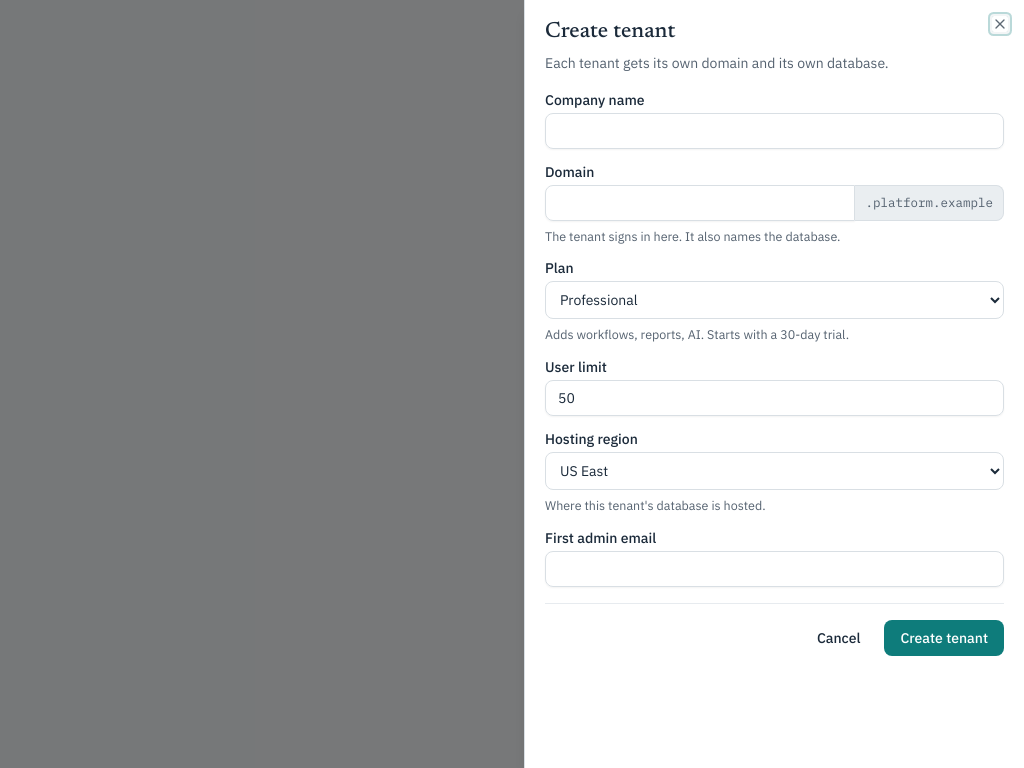
Scenario: CreateTenantDrawer: provisioning › keeps the form when the domain is taken, and starts no provisioning
Step 1. Type "Harbor Lane Advisors" into the field labelled "Company name" → (774, 131), box x1=545 y1=113 x2=1004 y2=149
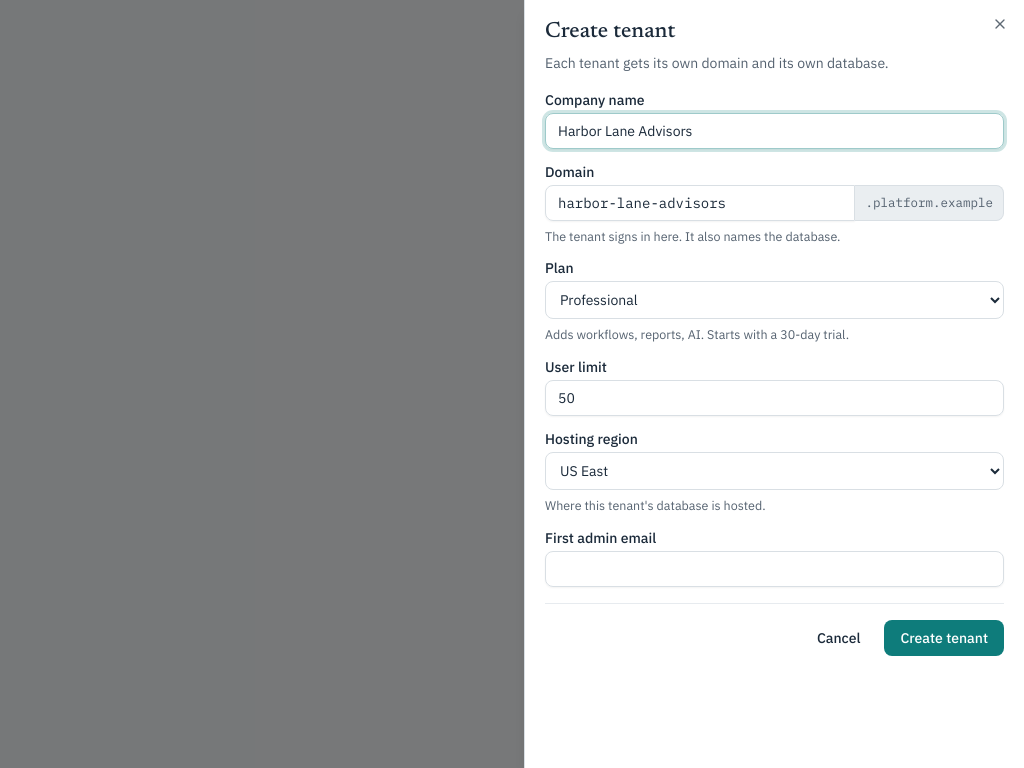
Step 2. Replace the text in the field labelled "Domain" with "northwind" → (700, 203), box x1=545 y1=185 x2=856 y2=221
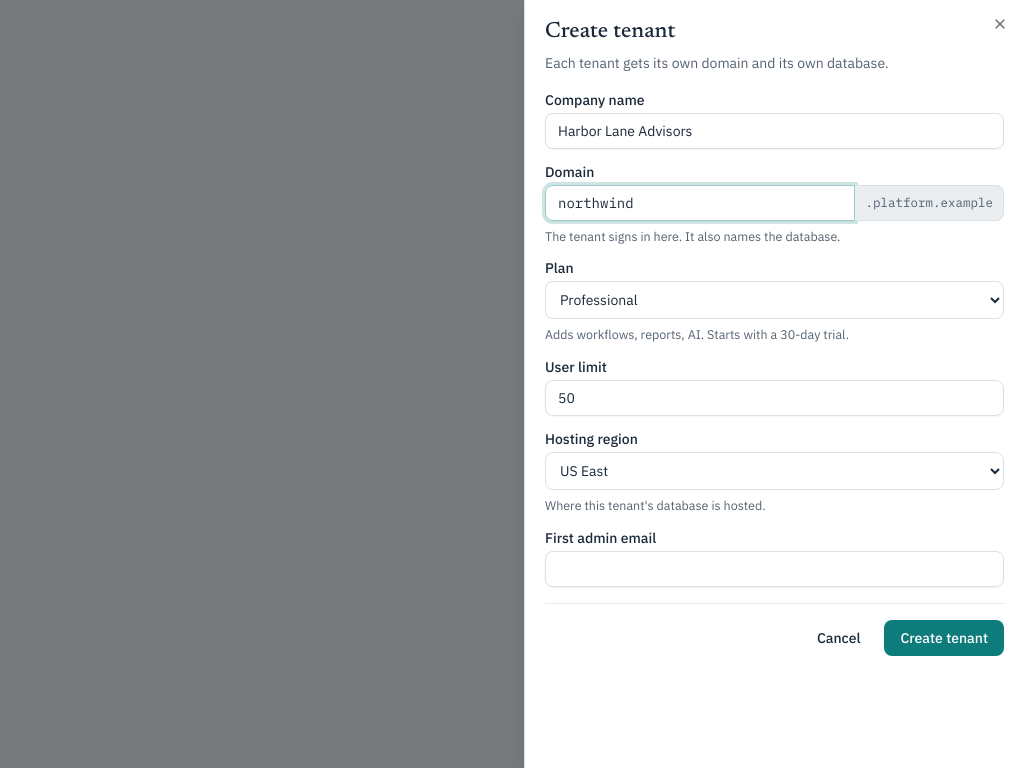
Step 3. Select "Enterprise" in the dropdown labelled "Plan" → (774, 300), box x1=545 y1=281 x2=1004 y2=319
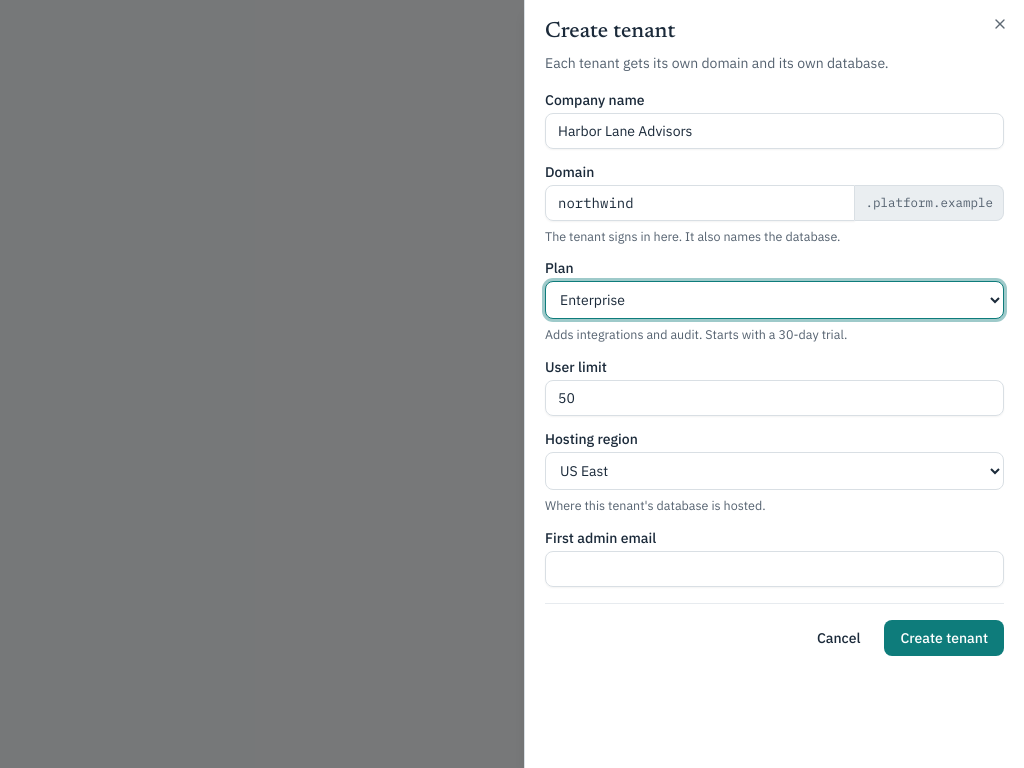
Step 4. Replace the text in the number field labelled "User limit" with "80" → (774, 398), box x1=545 y1=380 x2=1004 y2=416
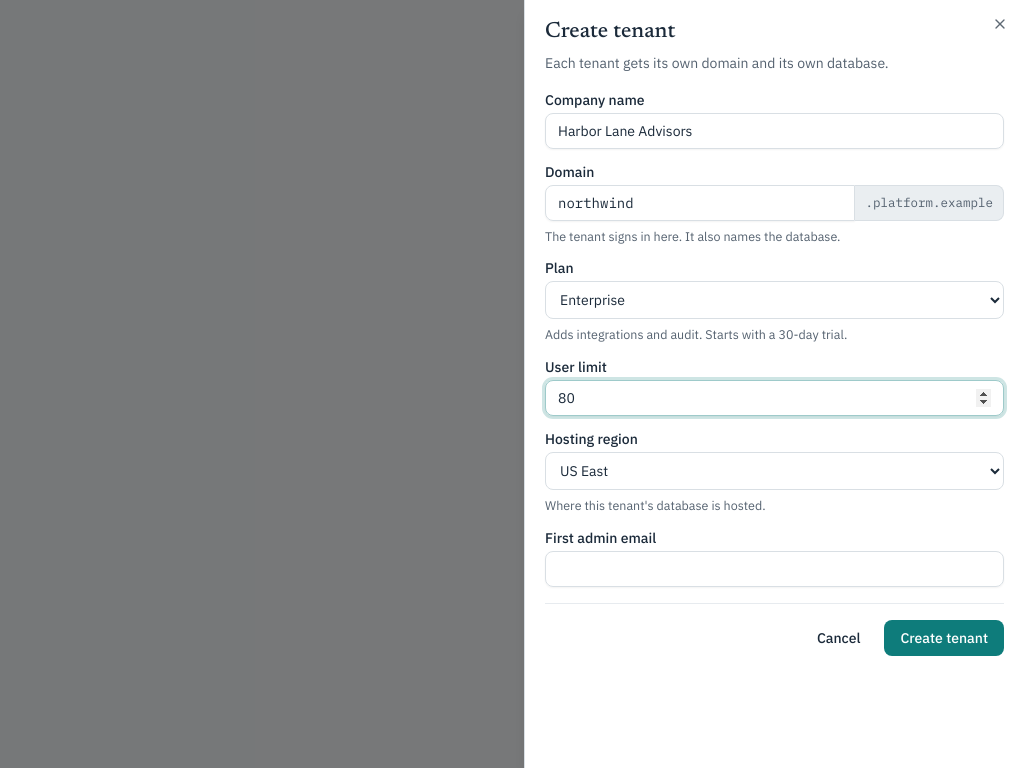
Step 5. Type "it@harborlane.example" into the field labelled "First admin email" → (774, 569), box x1=545 y1=551 x2=1004 y2=587
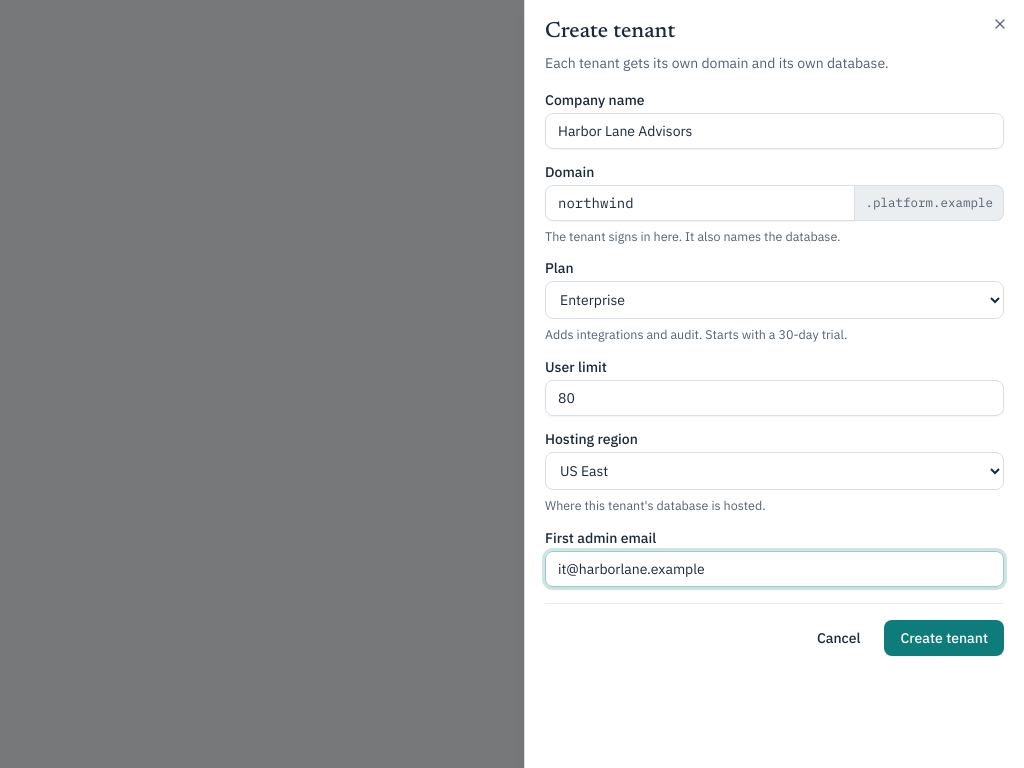
Step 6. Click the button "Create tenant" → (944, 638), box x1=884 y1=620 x2=1004 y2=656
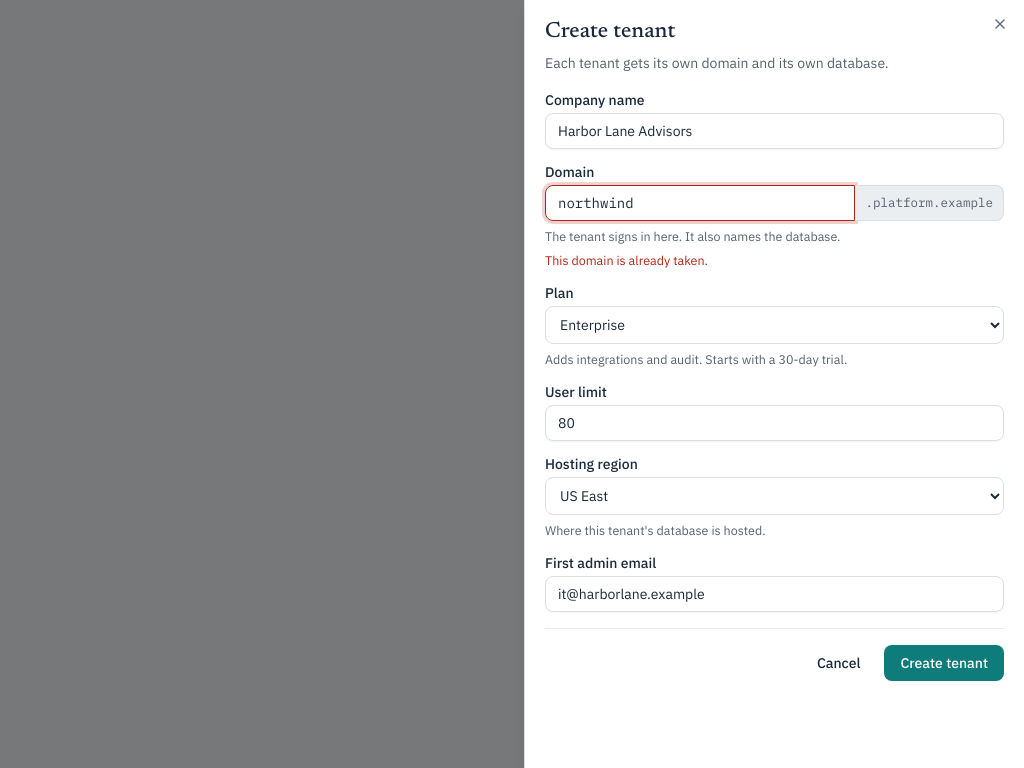
Result: the text "This domain is already taken." is shown at x1=545 y1=252 x2=708 y2=268
